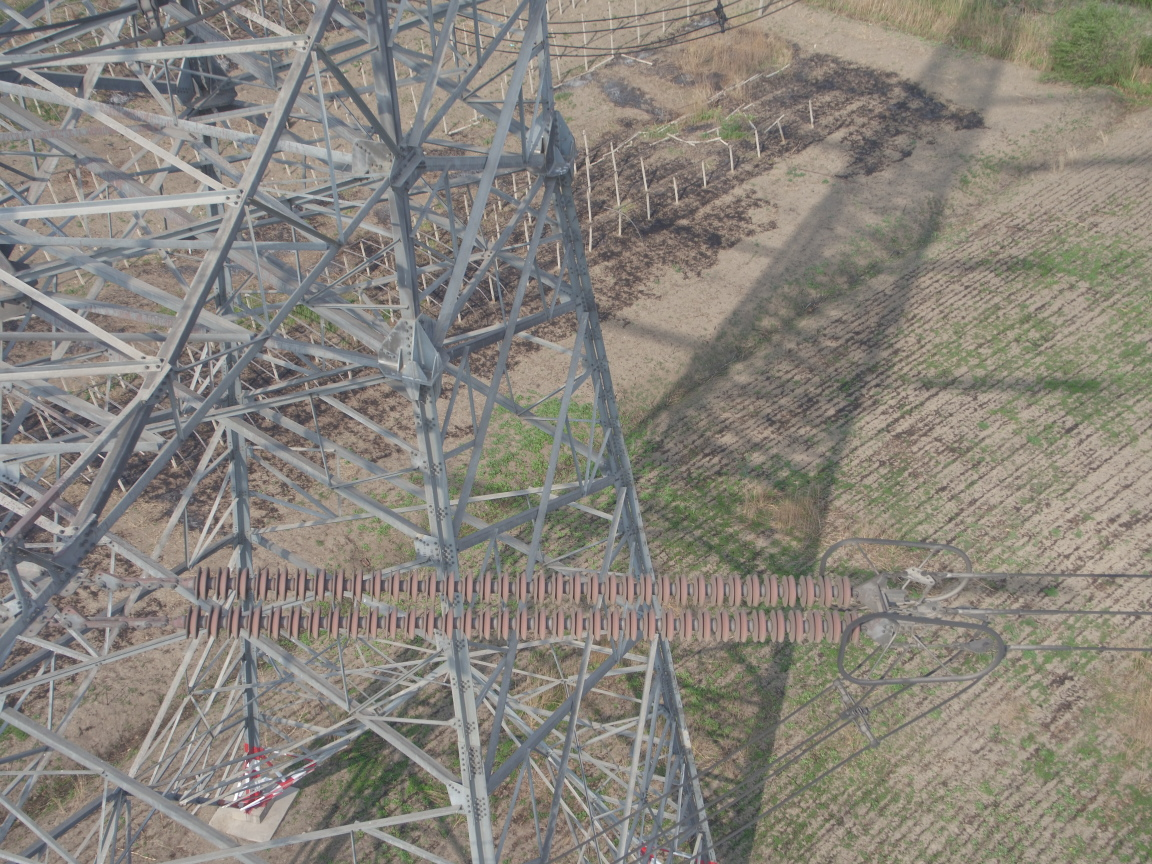insulator: (134, 559, 883, 646)
